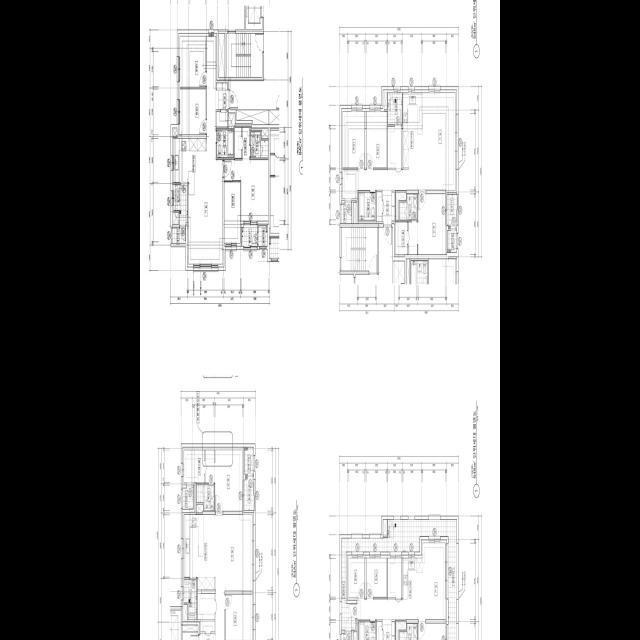background: (140, 0, 500, 640)
space_balconi: (341, 519, 457, 640), (174, 184, 188, 225), (184, 579, 197, 619), (388, 92, 402, 124), (244, 475, 254, 510), (447, 194, 457, 228), (242, 225, 257, 245)
space_bedroom: (224, 159, 268, 220), (418, 193, 446, 254), (215, 449, 242, 511), (180, 36, 206, 86), (343, 111, 365, 167), (226, 594, 252, 640), (180, 88, 206, 134), (366, 111, 387, 167), (366, 558, 387, 597), (349, 558, 365, 597), (418, 623, 445, 640)
space_dressroom: (184, 449, 214, 482), (395, 221, 417, 254), (235, 127, 250, 157)
space_front: (383, 190, 395, 225), (216, 82, 229, 109), (383, 619, 395, 640), (199, 633, 215, 640)
space_kitchen: (184, 514, 215, 589), (403, 92, 423, 169), (174, 138, 206, 182), (403, 558, 423, 599)
space_living_room: (343, 92, 455, 198), (189, 36, 223, 263), (358, 542, 445, 619), (215, 514, 252, 640)
space_multipurpose_space: (224, 182, 240, 243)
space_other: (388, 126, 402, 167), (388, 558, 401, 597), (237, 109, 269, 124), (198, 593, 215, 619), (218, 33, 225, 76), (396, 192, 406, 219), (341, 201, 352, 223), (183, 485, 193, 509), (172, 227, 186, 243), (396, 621, 406, 640), (376, 191, 382, 221), (217, 111, 228, 127), (201, 621, 215, 631), (377, 621, 382, 640), (183, 625, 198, 631), (353, 202, 357, 223), (228, 114, 234, 128), (341, 633, 352, 640), (383, 519, 387, 536), (196, 504, 203, 512), (262, 129, 268, 138), (384, 92, 387, 109), (174, 212, 179, 222), (184, 604, 187, 619), (353, 631, 357, 640), (173, 129, 177, 136)
space_outdoor_room: (244, 447, 254, 473), (448, 230, 457, 252), (258, 225, 267, 245)
space_staircase: (341, 227, 377, 270), (226, 33, 262, 76)
space_toilet: (196, 484, 214, 511), (359, 192, 376, 220), (217, 129, 234, 157), (399, 193, 417, 219), (251, 131, 268, 157), (359, 621, 376, 640), (399, 623, 417, 640)
